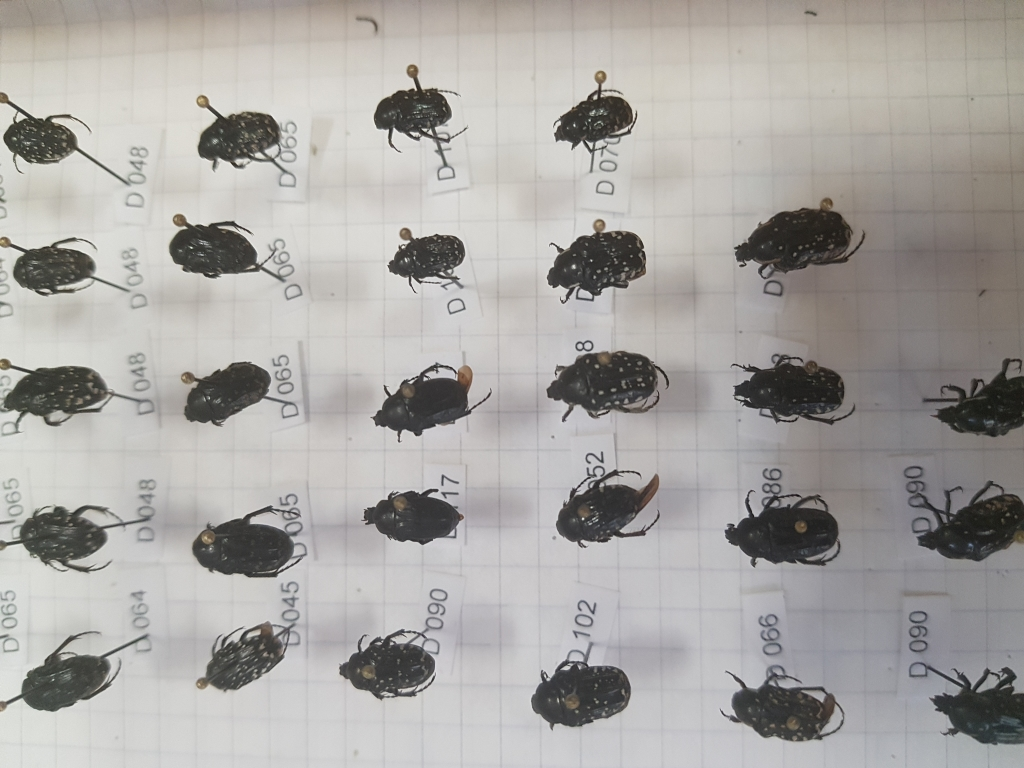Oxythyrea_cinctella: (546, 339, 667, 421), (546, 231, 652, 300), (386, 232, 469, 286)
